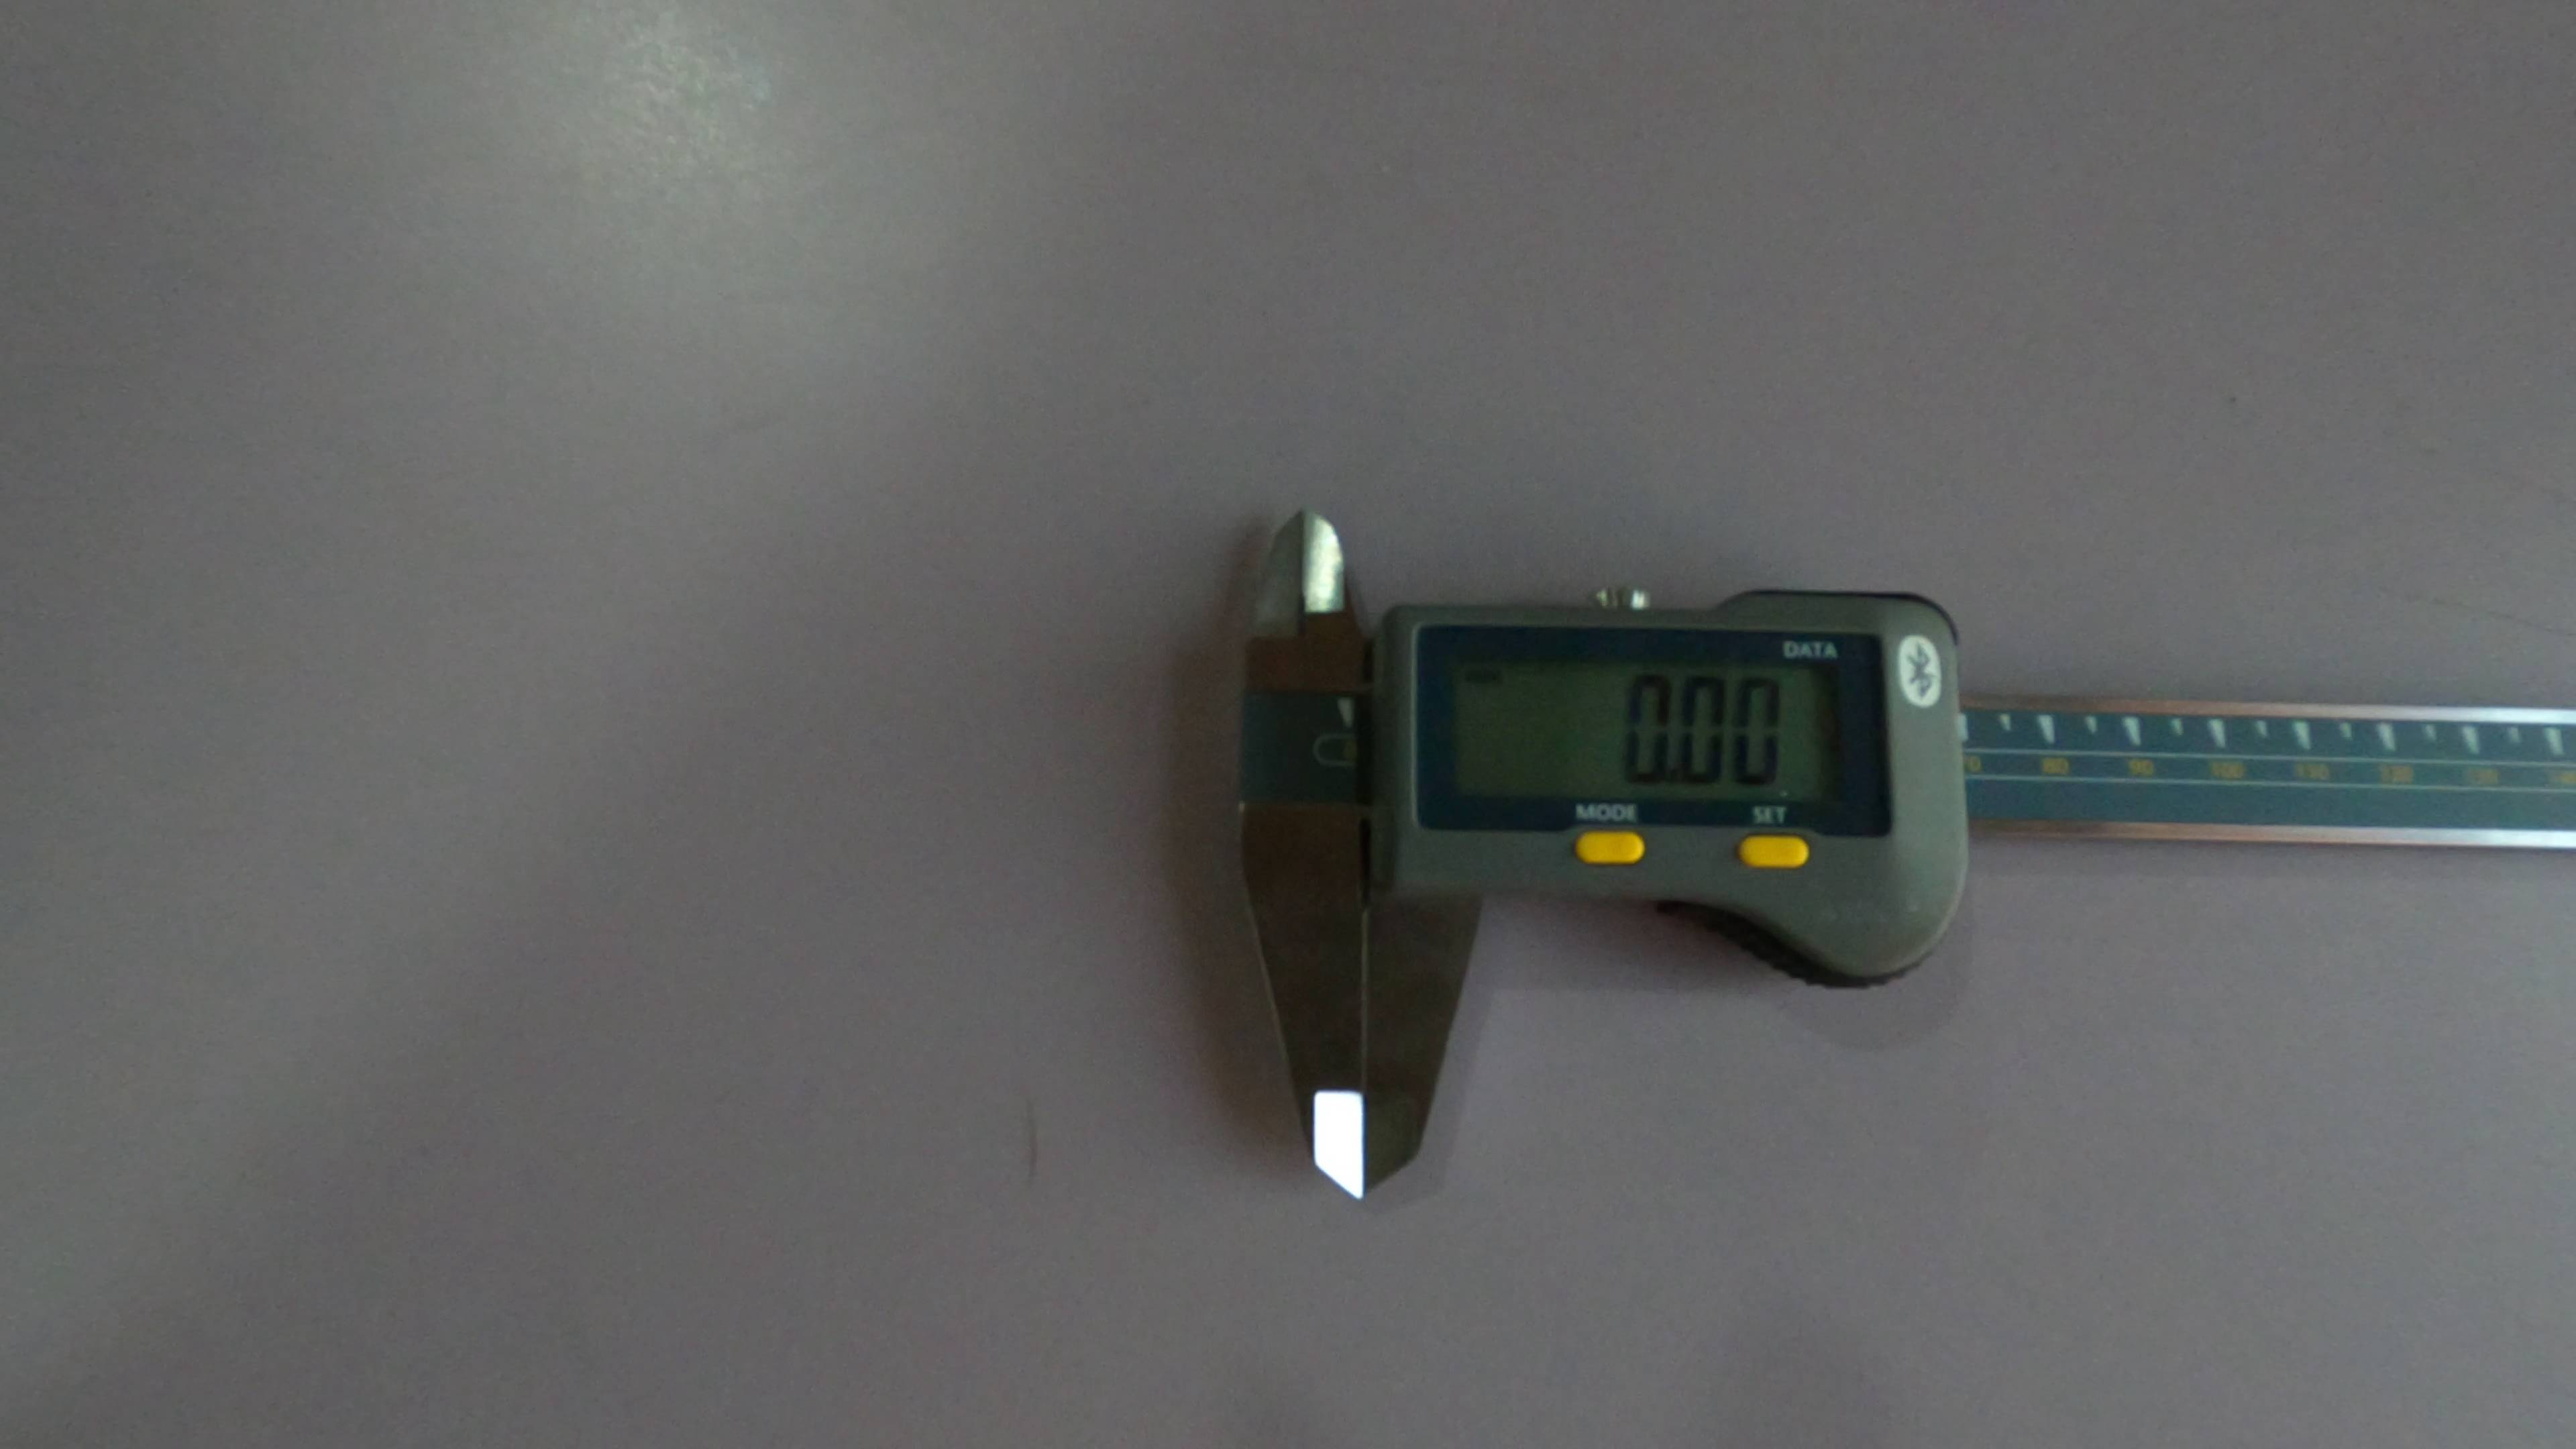vernier_caliper: (1240, 502, 2576, 1187)
